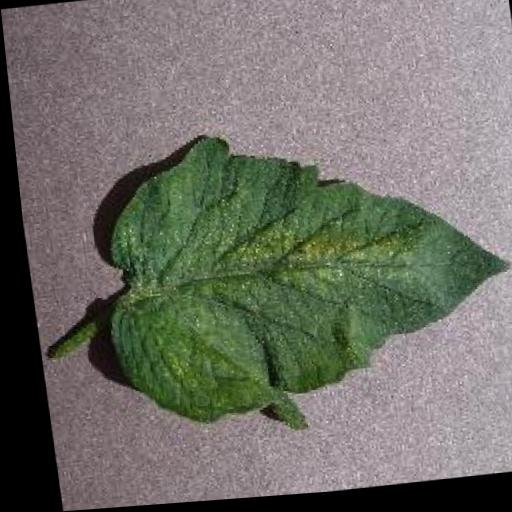Spider Mites: (80, 114, 512, 452)
